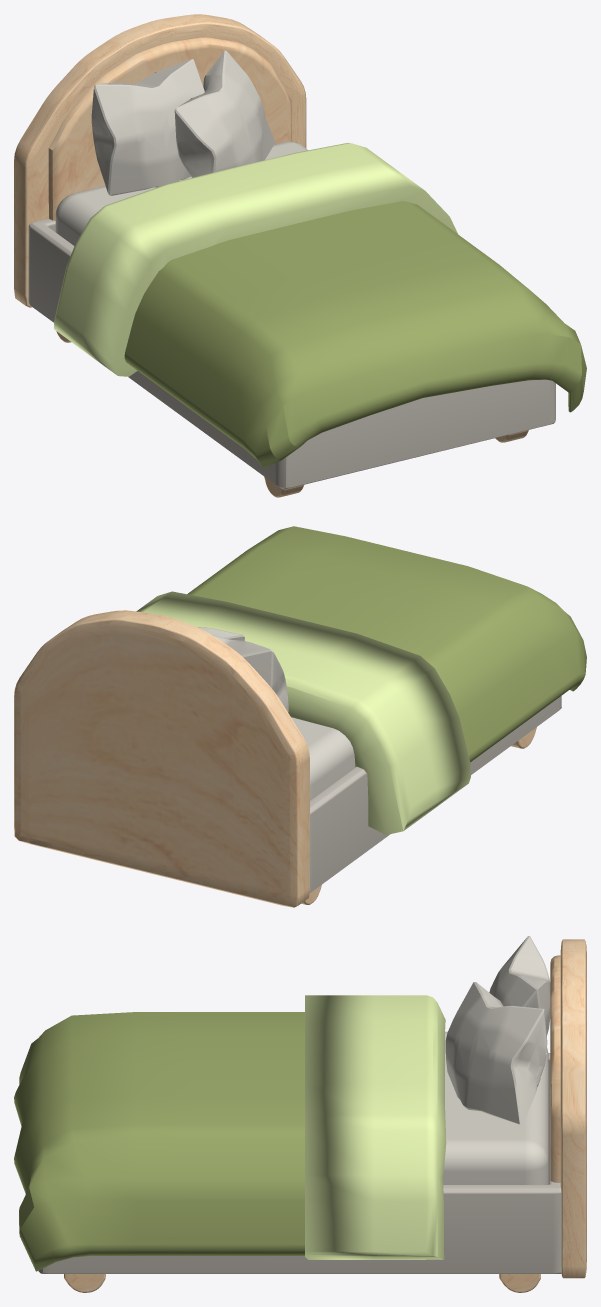
Rendered from bed.fbx.
3 views of the same model, one above another, from view 1: azimuth 30°, elevation 25°; view 2: azimuth 150°, elevation 25°; view 3: azimuth 270°, elevation 25° (orthographic). The views are drawn at different scales.
Visible parts, largest first — view 1: pCube8, pCube9, pCube7, pCube1, pCube10, pCube11, pCube6; view 2: pCube7, pCube8, pCube9, pCube1, pCube6, pCube10; view 3: pCube8, pCube9, pCube1, pCube7, pCube11, pCube6, pCube10, pCube4, pCube3.
Part boxes in pixels (left/top/right/bottom): pCube8: left=124, top=201, right=586, bottom=467; pCube9: left=54, top=143, right=457, bottom=376; pCube7: left=14, top=14, right=306, bottom=307; pCube1: left=28, top=218, right=555, bottom=489; pCube10: left=91, top=59, right=204, bottom=195; pCube11: left=174, top=50, right=275, bottom=177; pCube6: left=55, top=141, right=307, bottom=245; pCube7: left=14, top=610, right=309, bottom=907; pCube8: left=187, top=526, right=586, bottom=762; pCube9: left=136, top=591, right=470, bottom=834; pCube1: left=309, top=696, right=561, bottom=892; pCube6: left=291, top=717, right=355, bottom=799; pCube10: left=212, top=635, right=288, bottom=712; pCube8: left=14, top=1012, right=304, bottom=1271; pCube9: left=305, top=995, right=446, bottom=1259; pCube1: left=38, top=1053, right=561, bottom=1273; pCube7: left=550, top=939, right=586, bottom=1278; pCube11: left=445, top=982, right=547, bottom=1125; pCube6: left=443, top=1031, right=548, bottom=1184; pCube10: left=489, top=936, right=550, bottom=1035; pCube4: left=499, top=1274, right=540, bottom=1292; pCube3: left=64, top=1274, right=105, bottom=1292.
Size of the model in its own units: 1.48 by 1.08 by 2.03.
